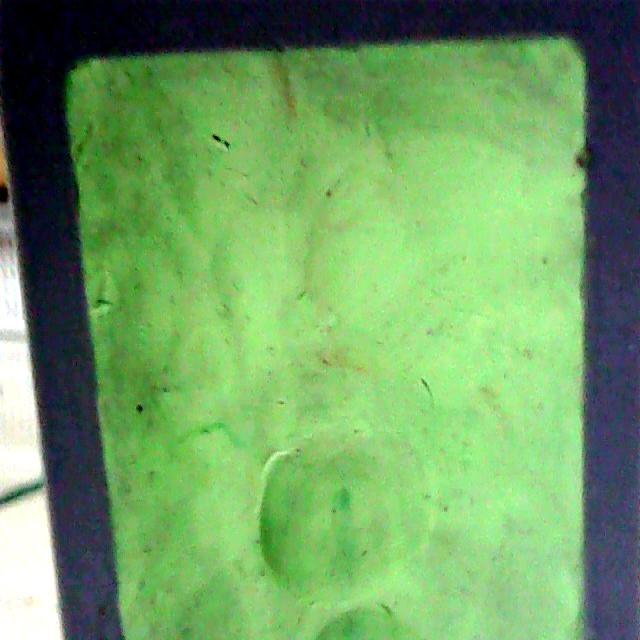block: (2, 39, 636, 640)
